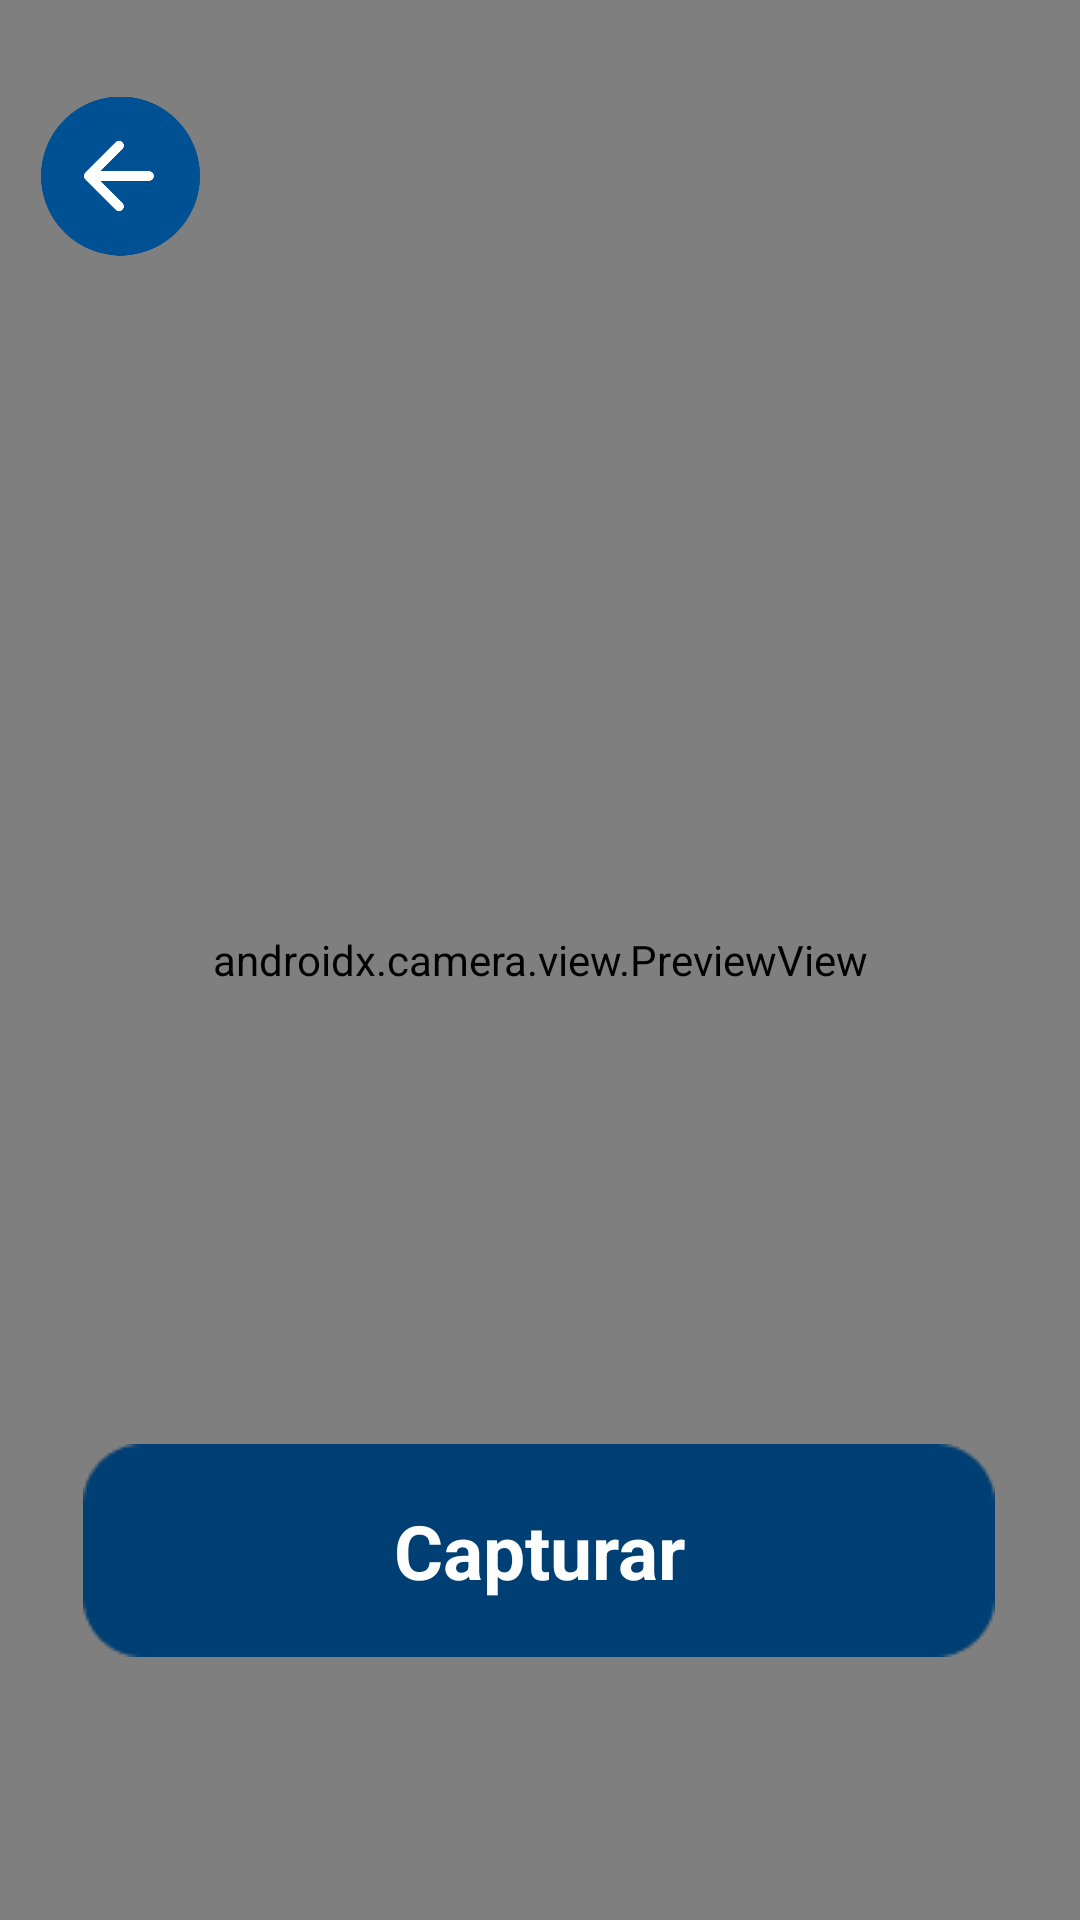

Named icons in this screenshot (1080px x 1920px) and their centers, (x=x, y=y):
seta voltar: (x=120, y=176)
